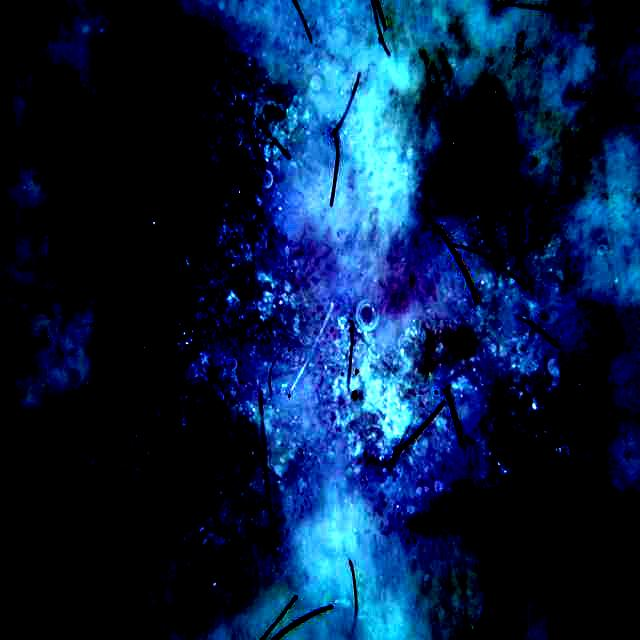AKIEC: (48, 3, 620, 634)
